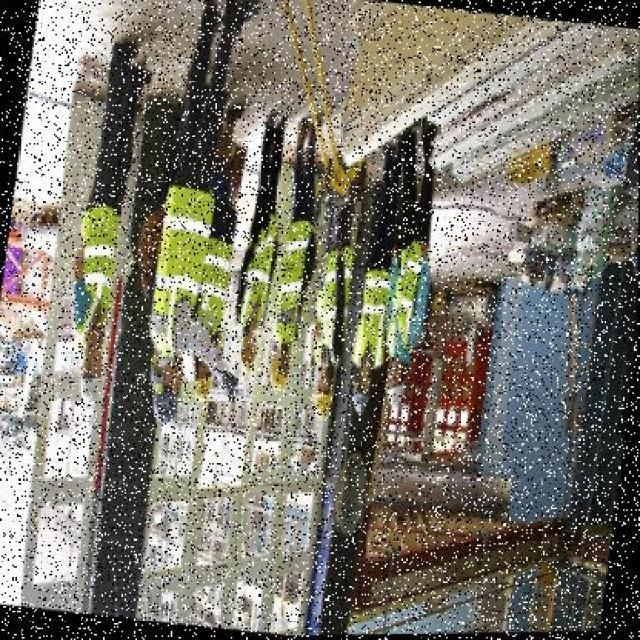helmet: (146, 357, 188, 431), (72, 345, 108, 404), (265, 343, 296, 393), (379, 363, 407, 413), (309, 369, 335, 415), (234, 332, 258, 377), (349, 376, 373, 418), (189, 360, 215, 397)
vest: (145, 166, 215, 353), (60, 185, 126, 347), (379, 220, 431, 368), (305, 234, 357, 379), (191, 223, 237, 371), (266, 216, 316, 352), (233, 205, 280, 338), (348, 251, 390, 371)
